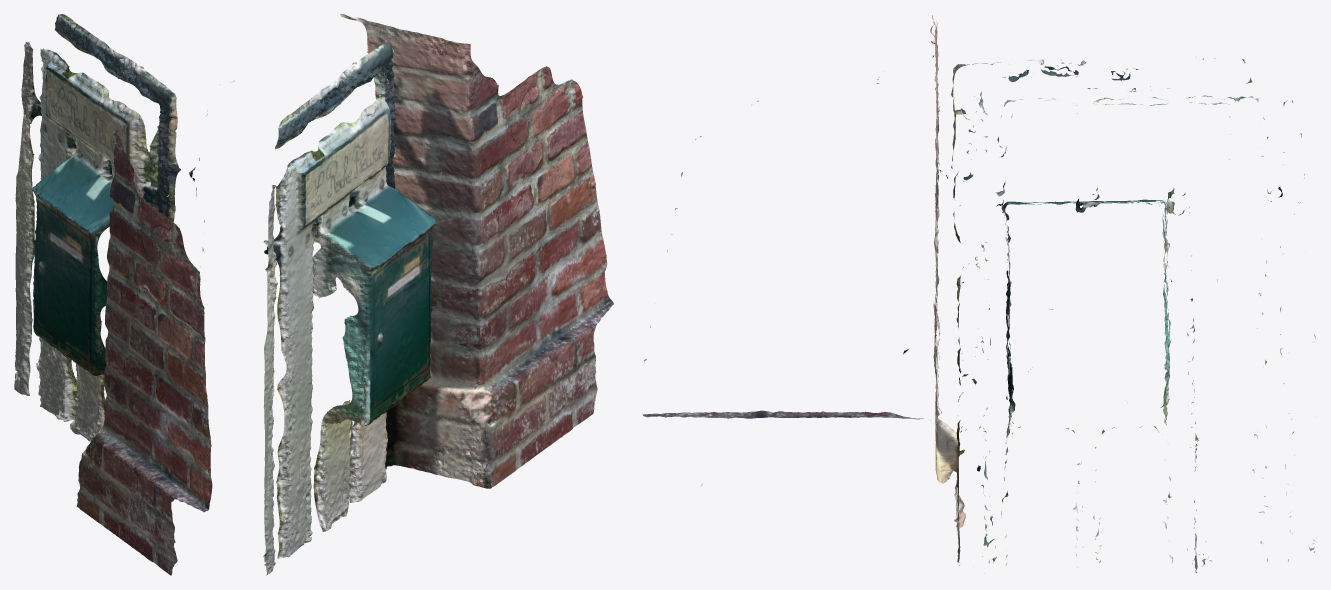
The model's file is S038_LaRocheFleurie.glb.
3 renders of one model, left to right at view 1: azimuth 30°, elevation 25°; view 2: azimuth 150°, elevation 25°; view 3: azimuth 270°, elevation 25°, orthographic. The views are drawn at different scales.
Bounding box in the file's own units: 0.3691 × 0.9331 × 1.09.
1 material, 1 textured.
